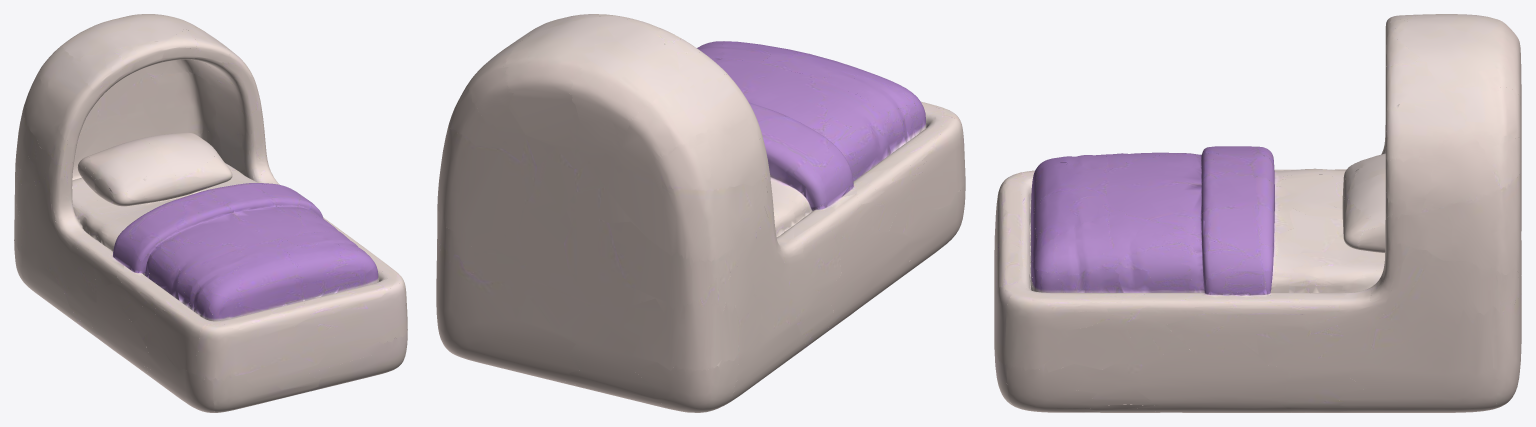
Rendered from pod.glb.
3 views of the same model, side by side, from view 1: azimuth 30°, elevation 25°; view 2: azimuth 150°, elevation 25°; view 3: azimuth 270°, elevation 25° (orthographic). The views are drawn at different scales.
Parts seen in each view (by area): view 1: Mesh_0; view 2: Mesh_0; view 3: Mesh_0.
Boxes of the visible parts, x1,y1,x2,y2 form: Mesh_0: (14, 14, 407, 412); Mesh_0: (436, 14, 965, 412); Mesh_0: (994, 14, 1521, 412).
Bounding box in the file's own units: 1.26 × 1.35 × 2.01.
Materials: 1 (1 with a texture image).
